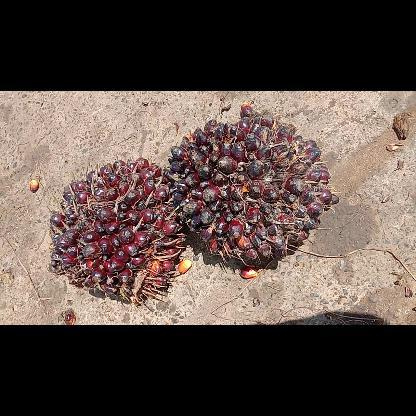Kurang masak: (164, 100, 340, 268), (46, 156, 188, 309)
